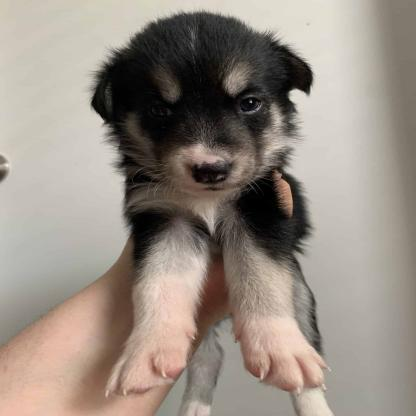husky: (88, 9, 333, 399)
